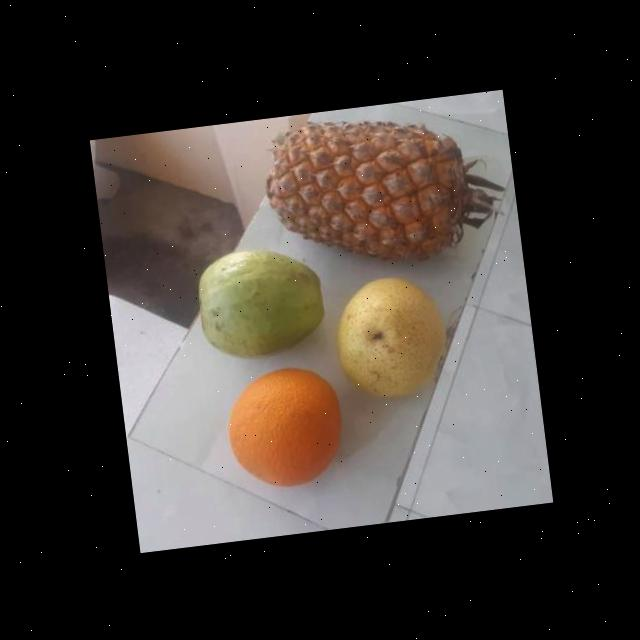guava: (190, 238, 330, 364)
orange: (216, 358, 352, 494)
pear: (328, 269, 453, 400)
pineapple: (260, 101, 488, 274)
